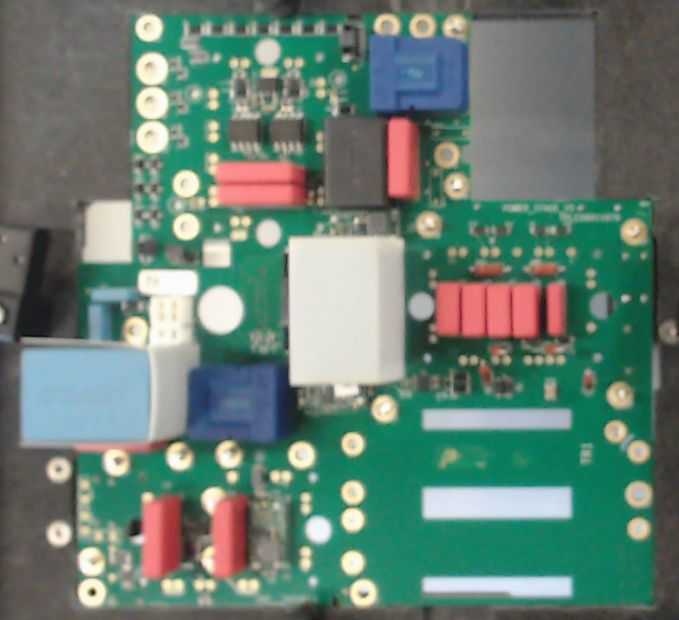comp1: (185, 363, 290, 443), (368, 35, 470, 115)
comp2: (142, 494, 181, 577), (386, 117, 422, 201), (213, 495, 245, 576), (215, 181, 307, 206), (215, 161, 305, 183), (510, 279, 541, 340), (484, 280, 511, 340), (434, 281, 461, 340), (461, 281, 486, 340), (546, 280, 566, 340)
comp3: (321, 115, 388, 210)
comp4: (20, 337, 199, 445), (289, 236, 405, 387)
